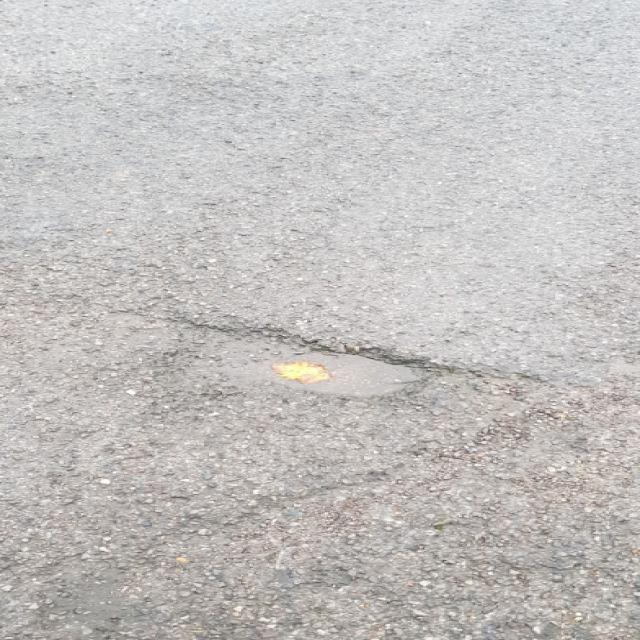Pothole: (153, 318, 450, 405)
